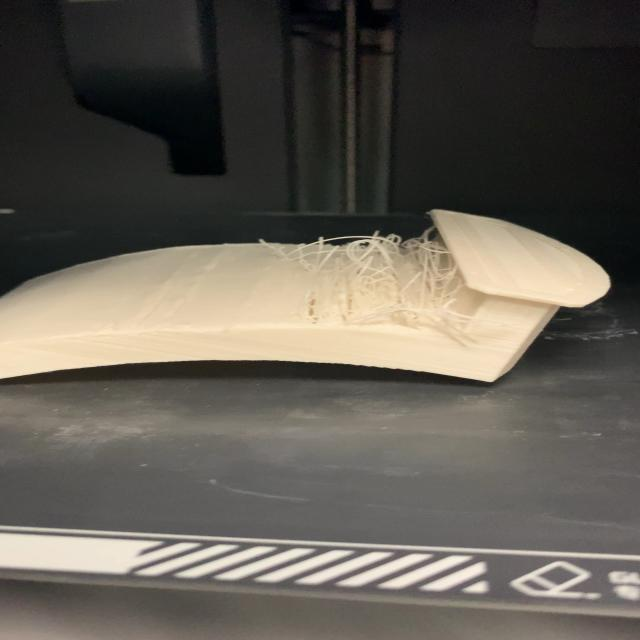spaghetti: (267, 207, 455, 357)
